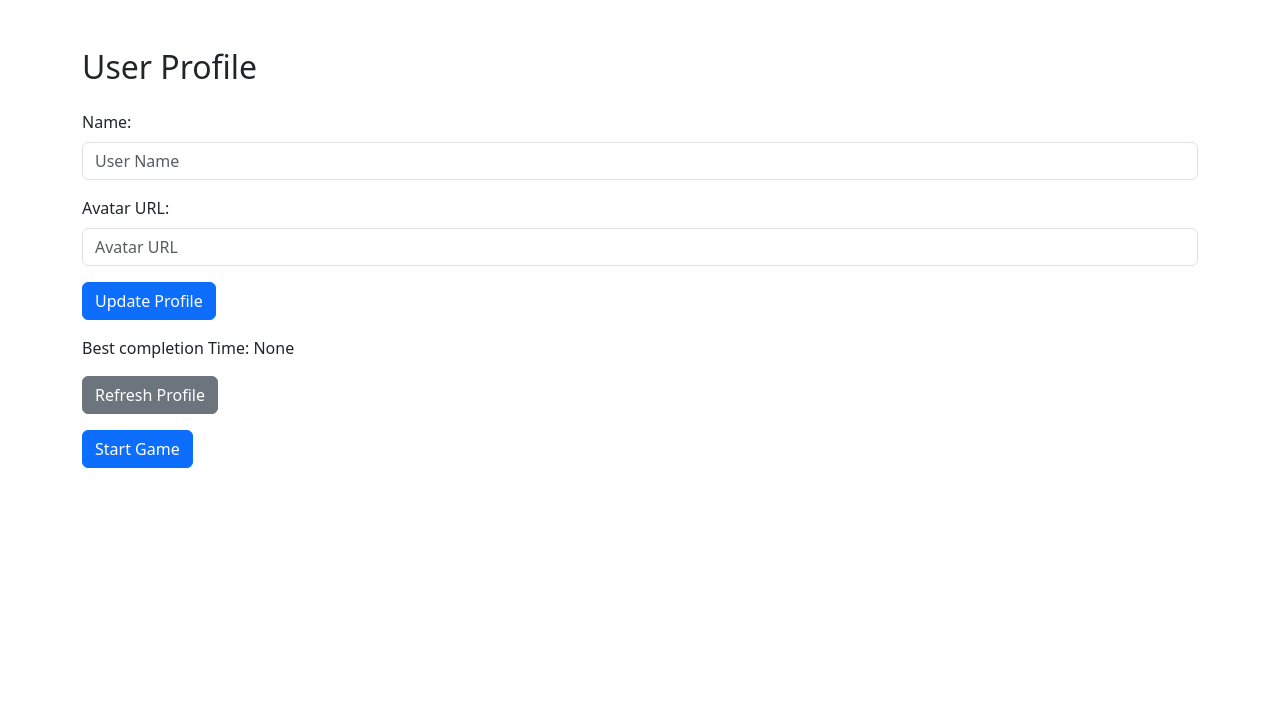
Test: <MemoryGame /> › Check if the component render properly and can handle card clicks
Step 1. Click the button "Start Game" → (137, 449), box [82,430,193,468]
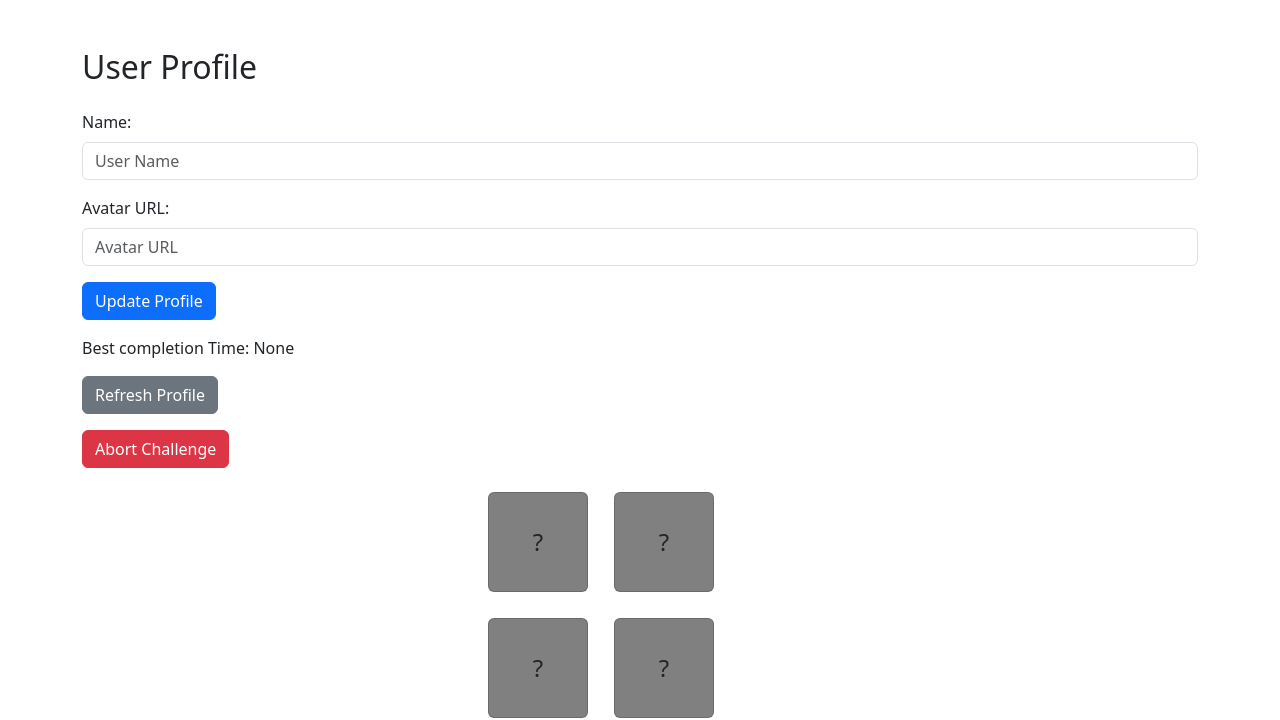
Check: the text "?" is shown 8 times
